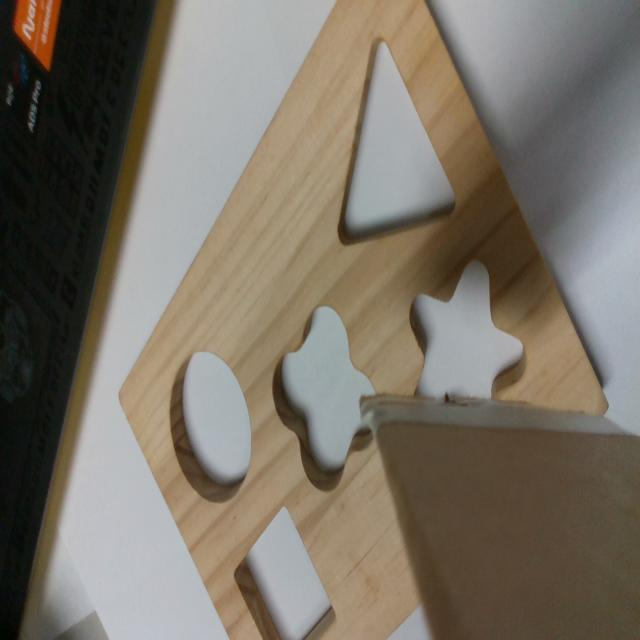circle: (170, 350, 254, 504)
flower: (271, 306, 381, 491)
square: (233, 505, 337, 637)
star: (409, 259, 528, 397)
triangle: (336, 35, 458, 248)
